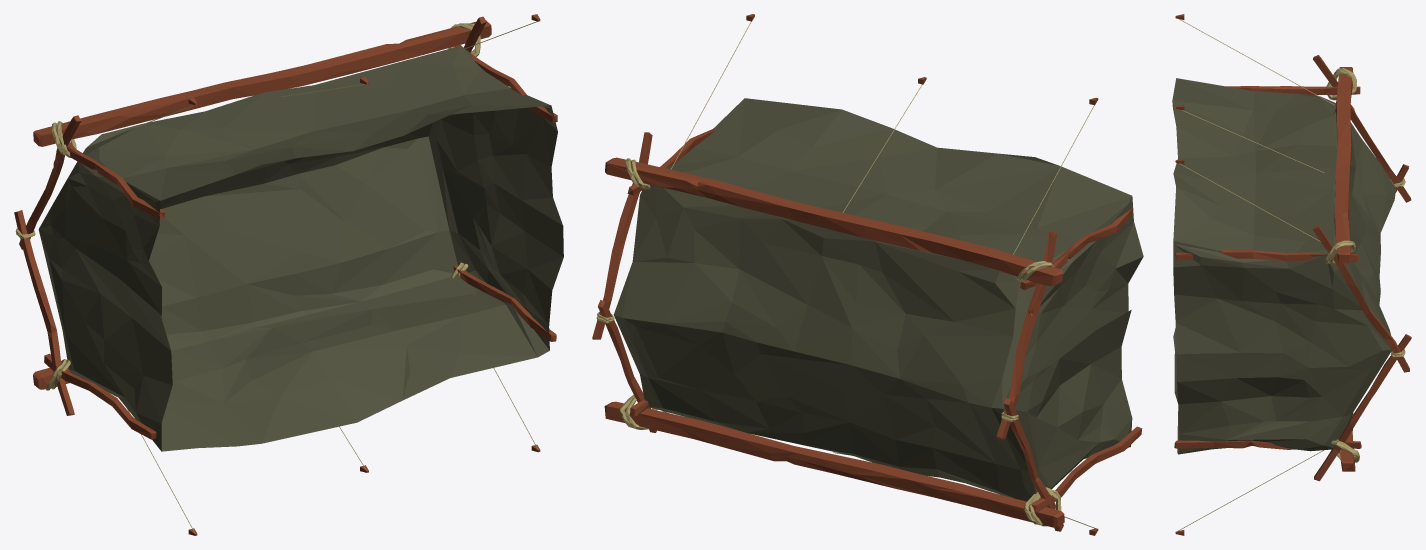
File: tent.FBX
3 renders of one model, left to right at view 1: azimuth 30°, elevation 25°; view 2: azimuth 150°, elevation 25°; view 3: azimuth 270°, elevation 25°, orthographic. The views are drawn at different scales.
Visible parts, largest first — view 1: Tent; view 2: Tent; view 3: Tent.
Part boxes in pixels (x1=…): Tent: x1=14, y1=14, x2=563, y2=535; Tent: x1=592, y1=14, x2=1143, y2=535; Tent: x1=1172, y1=14, x2=1411, y2=535.
Bounding box in the file's own units: 440 × 403 × 233.
